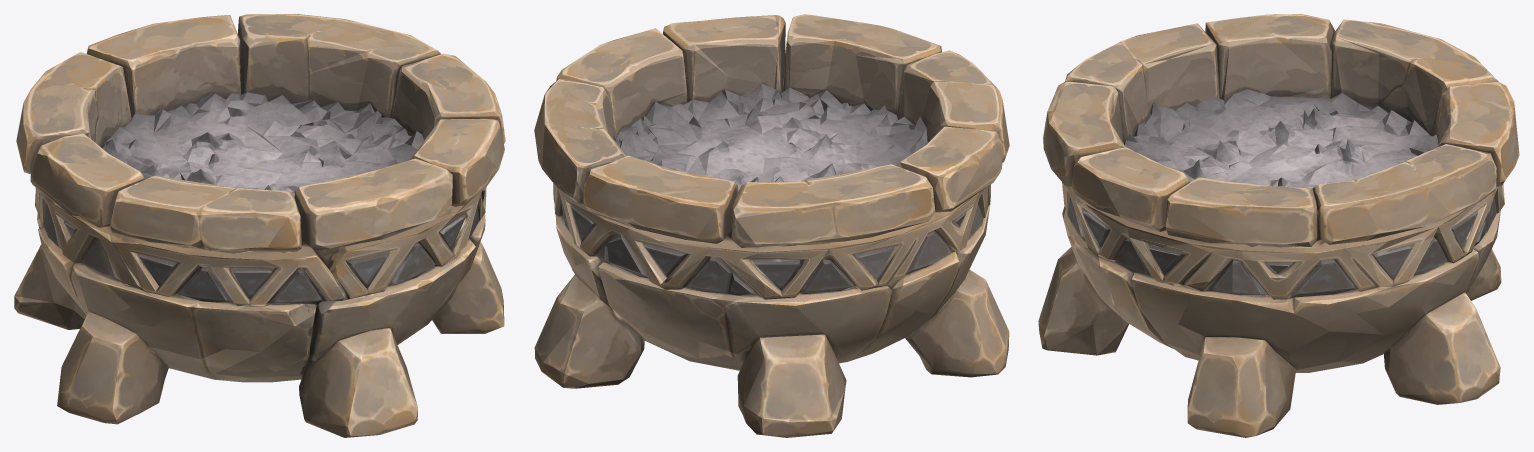
File: brazier.hq.glb
The picture shows the model from 3 angles, left to right: view 1: azimuth 30°, elevation 25°; view 2: azimuth 150°, elevation 25°; view 3: azimuth 270°, elevation 25°; orthographic projection. The views are drawn at different scales.
Visible parts, largest first — view 1: output_unwrapped; view 2: output_unwrapped; view 3: output_unwrapped.
Part boxes in pixels (x1,y1,x2,y2): output_unwrapped: (14,14,505,437); output_unwrapped: (534,14,1009,437); output_unwrapped: (1038,14,1519,437).
Size of the model in its own units: 1.9 by 0.9591 by 1.85.
Materials: 1 (1 with a texture image).
